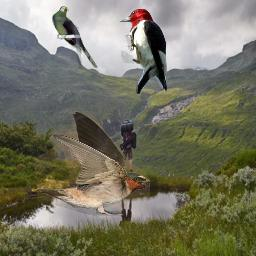Cuckoo: (52, 6, 100, 69)
Swallow: (35, 111, 150, 216)
Woodpecker: (117, 8, 168, 94)
